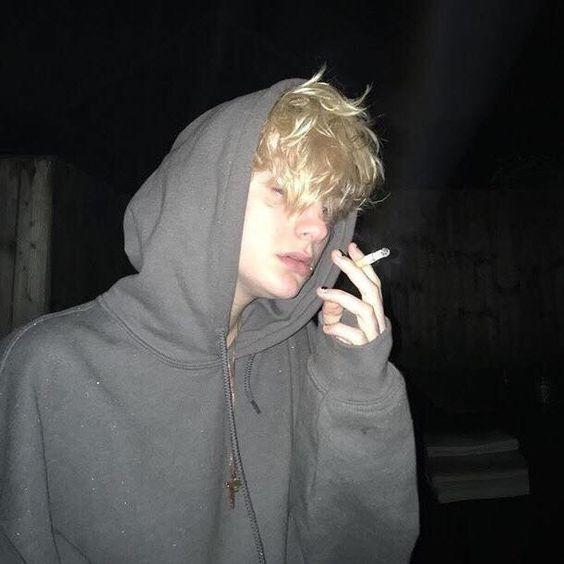cigarette: (356, 248, 390, 268)
